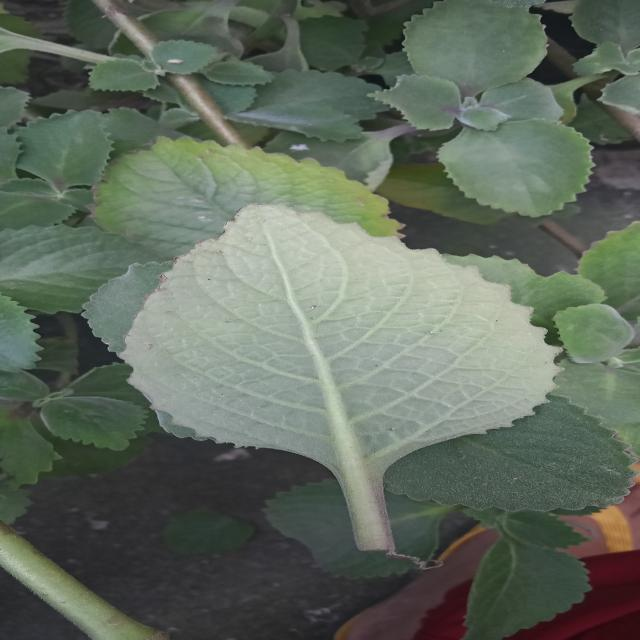Oregano: (87, 195, 578, 528)
